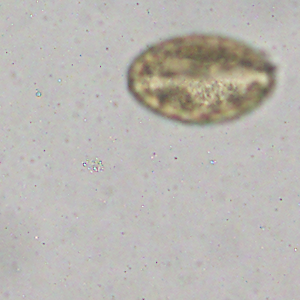Fasciola_hepatica_egg: (126, 31, 281, 125)
